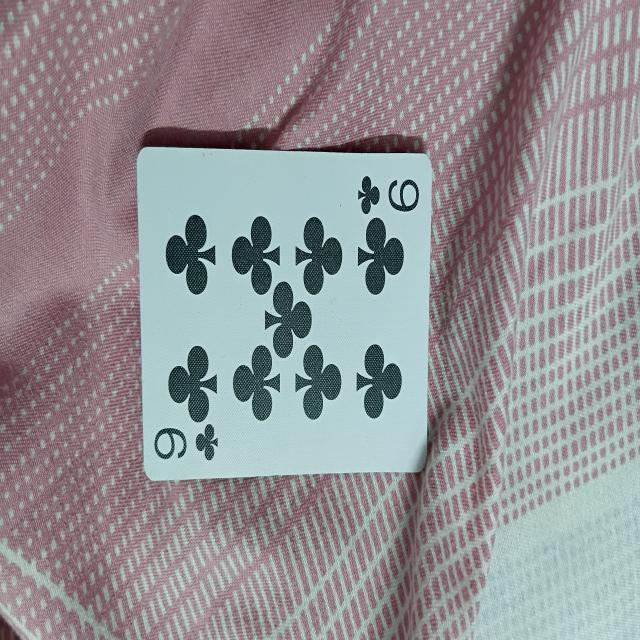9C: (136, 148, 428, 475)
